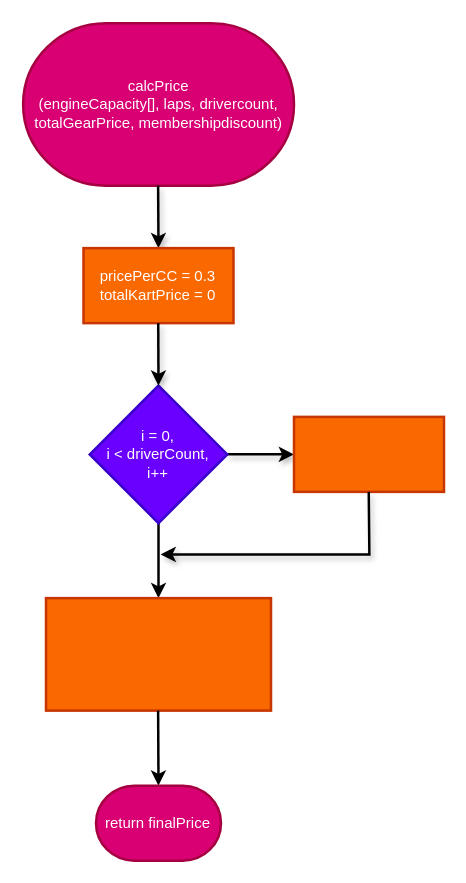
Image size: 466x883. Some labels were removed from this diagram. Here are the shapes that lost their labels. From the top down, the centre of each, then its label:
the point at 368,453: totalKartPrice += (engineCapacity[i] * pricePerCC) * laps
the point at 158,653: finalPrice = (totaKartPrice + totalGearPrice) * (1 - membershipDiscount)
